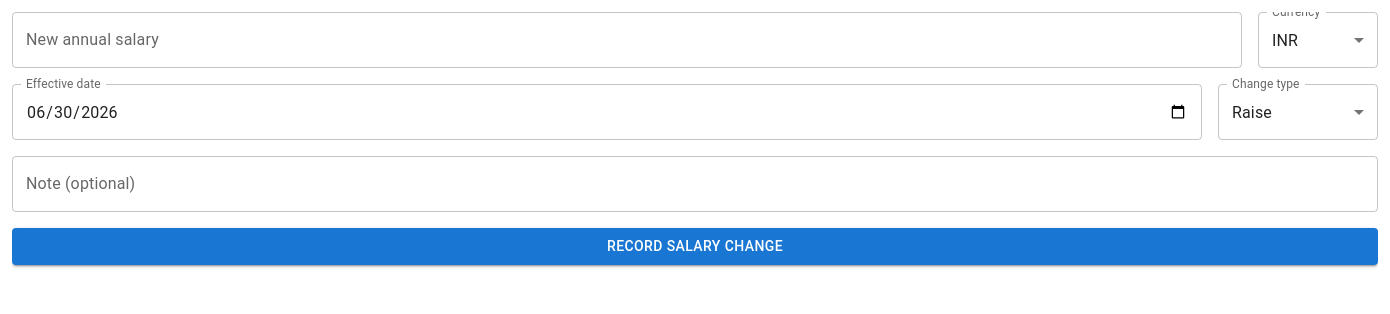
it: SalaryChangeForm › blocks a future effective date
This screenshot has width=1390, height=314.
Type "100000" into the field labelled "New annual salary" at (627, 40), box [12,12,1242,68]
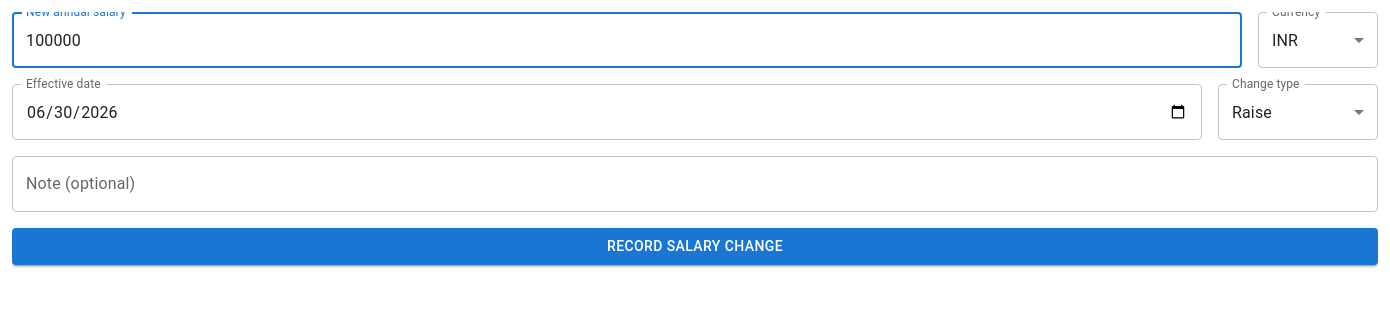
Type "2026-07-01" into the date field labelled "Effective date" at (607, 112), box [12,84,1202,140]
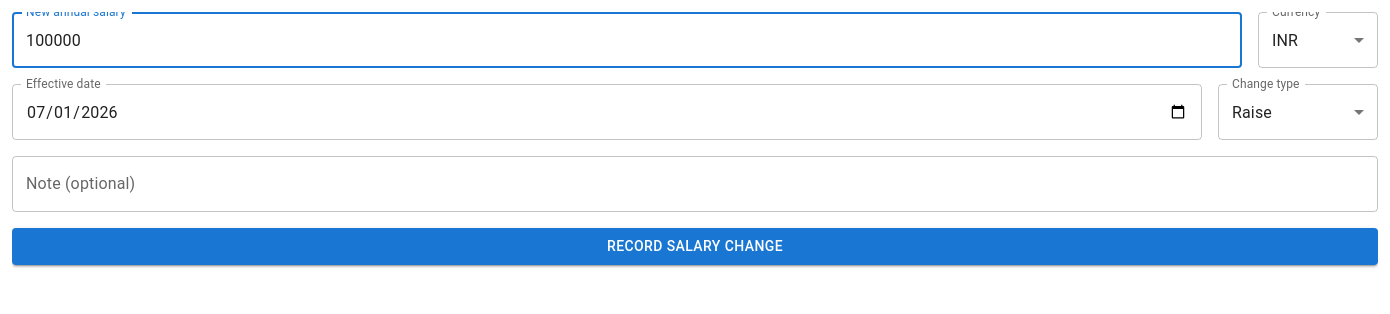
Click the button "Record salary change" at (695, 246), box [12,228,1378,264]
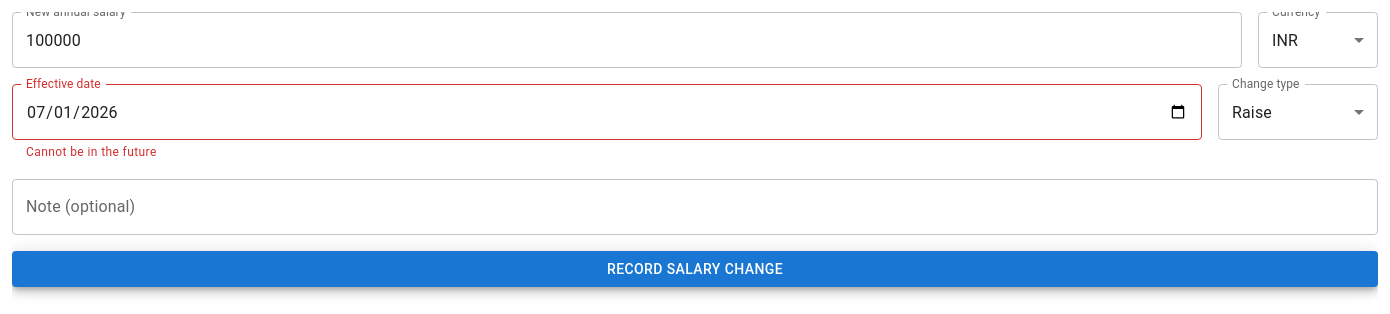
Result: the text "Cannot be in the future" is shown at [26,145,157,159]
